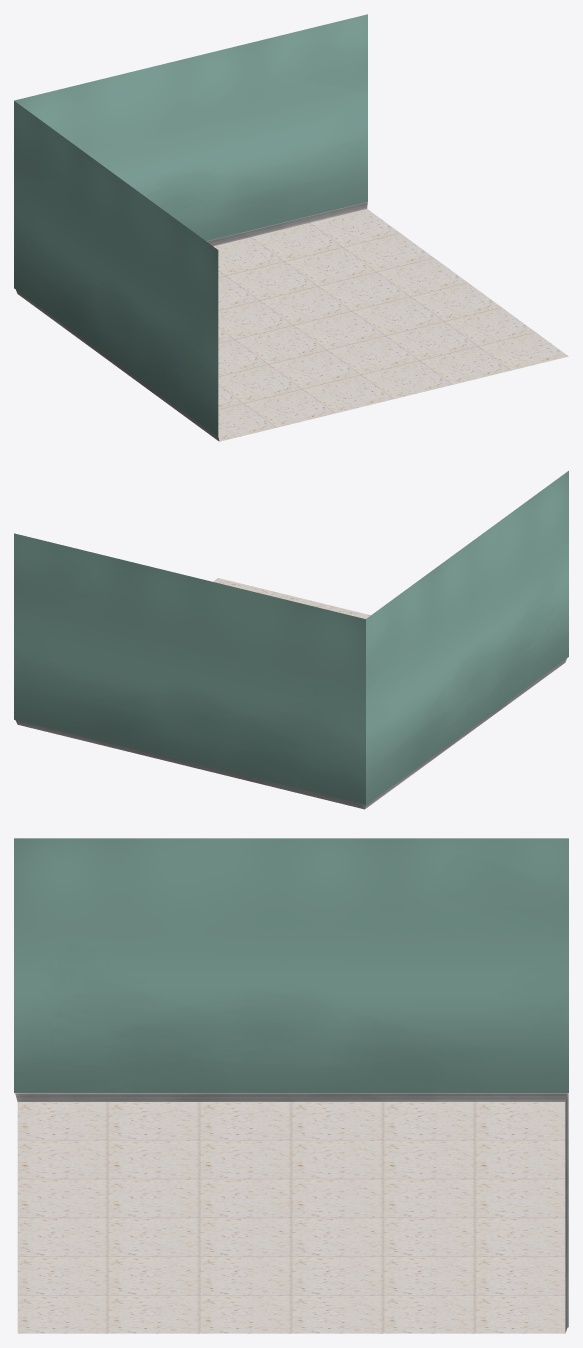
File: walls.fbx
3 views of the same model, one above another, from view 1: azimuth 30°, elevation 25°; view 2: azimuth 150°, elevation 25°; view 3: azimuth 270°, elevation 25° (orthographic). The views are drawn at different scales.
Visible parts, largest first — view 1: pPlane1; view 2: pPlane1; view 3: pPlane1.
Part boxes in pixels (<box>): pPlane1: <box>14,14,568,441</box>; pPlane1: <box>14,471,568,809</box>; pPlane1: <box>14,838,568,1333</box>.
Size of the model in its own units: 512 by 267 by 512.
2 materials, 2 textured.
